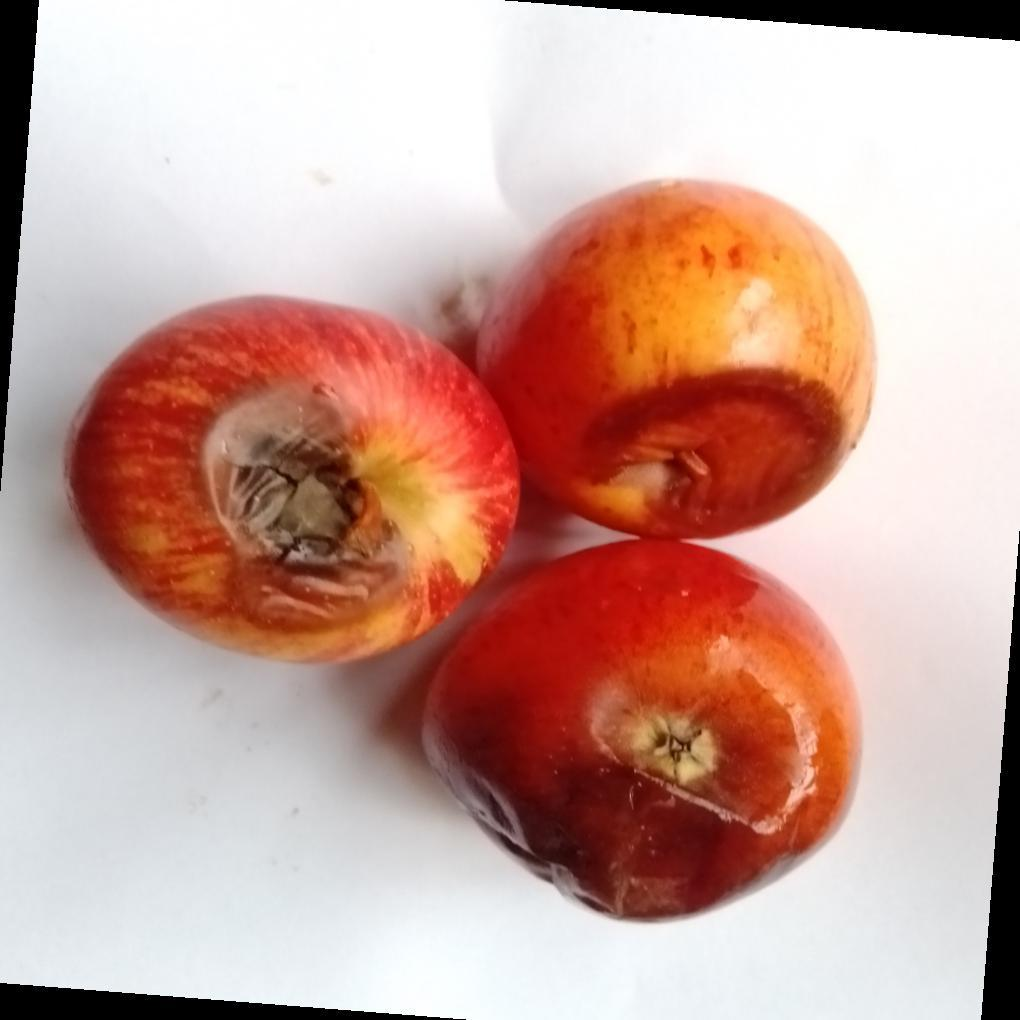FreshOrange: (76, 180, 877, 926)
